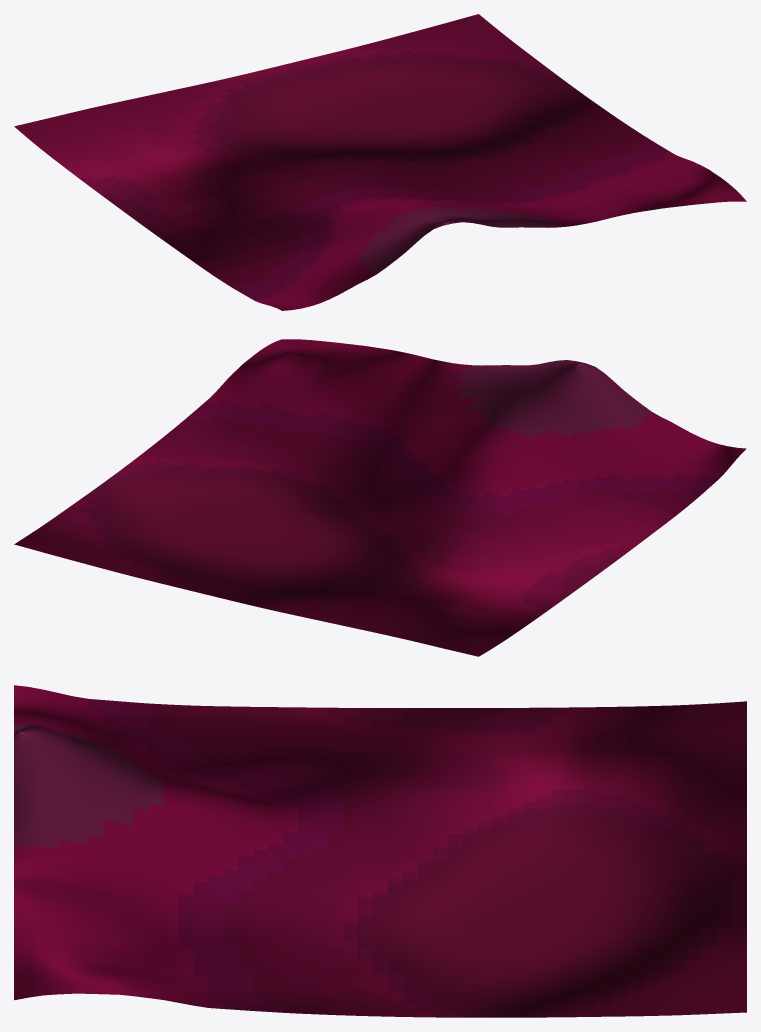
The model's file is terrian1.obj.
The picture shows the model from 3 angles, top to bottom: view 1: azimuth 30°, elevation 25°; view 2: azimuth 150°, elevation 25°; view 3: azimuth 270°, elevation 25°; orthographic projection. The views are drawn at different scales.
Parts seen in each view (by area): view 1: Mesh; view 2: Mesh; view 3: Mesh.
Boxes of the visible parts, x1,y1,x2,y2 form: Mesh: [14, 14, 746, 310]; Mesh: [14, 339, 746, 656]; Mesh: [14, 685, 746, 1017].
Size of the model in its own units: 490 by 64.39 by 490.
1 material, 1 textured.
